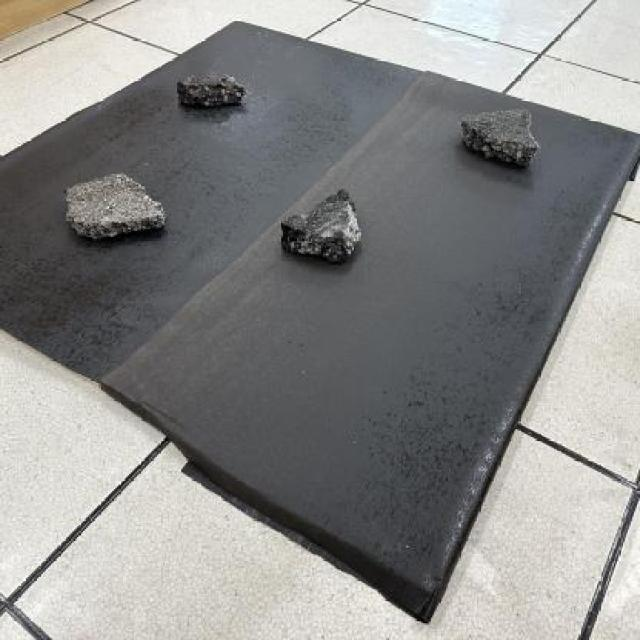Road Debris: (66, 170, 160, 238), (282, 190, 355, 238), (465, 108, 533, 150), (180, 70, 252, 90)
